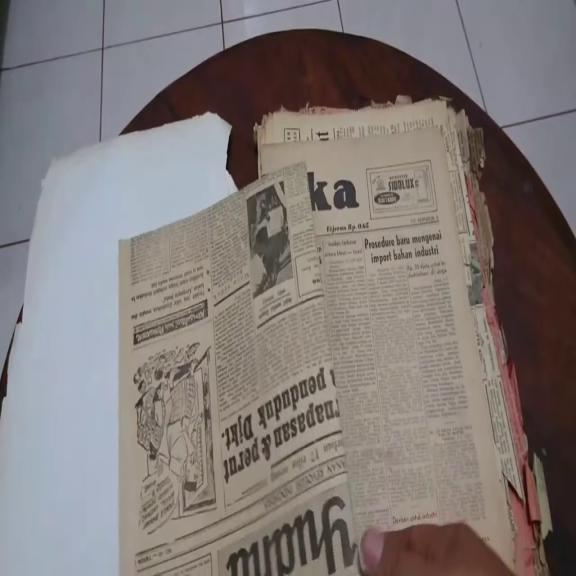Kertas: (120, 232, 468, 518)
